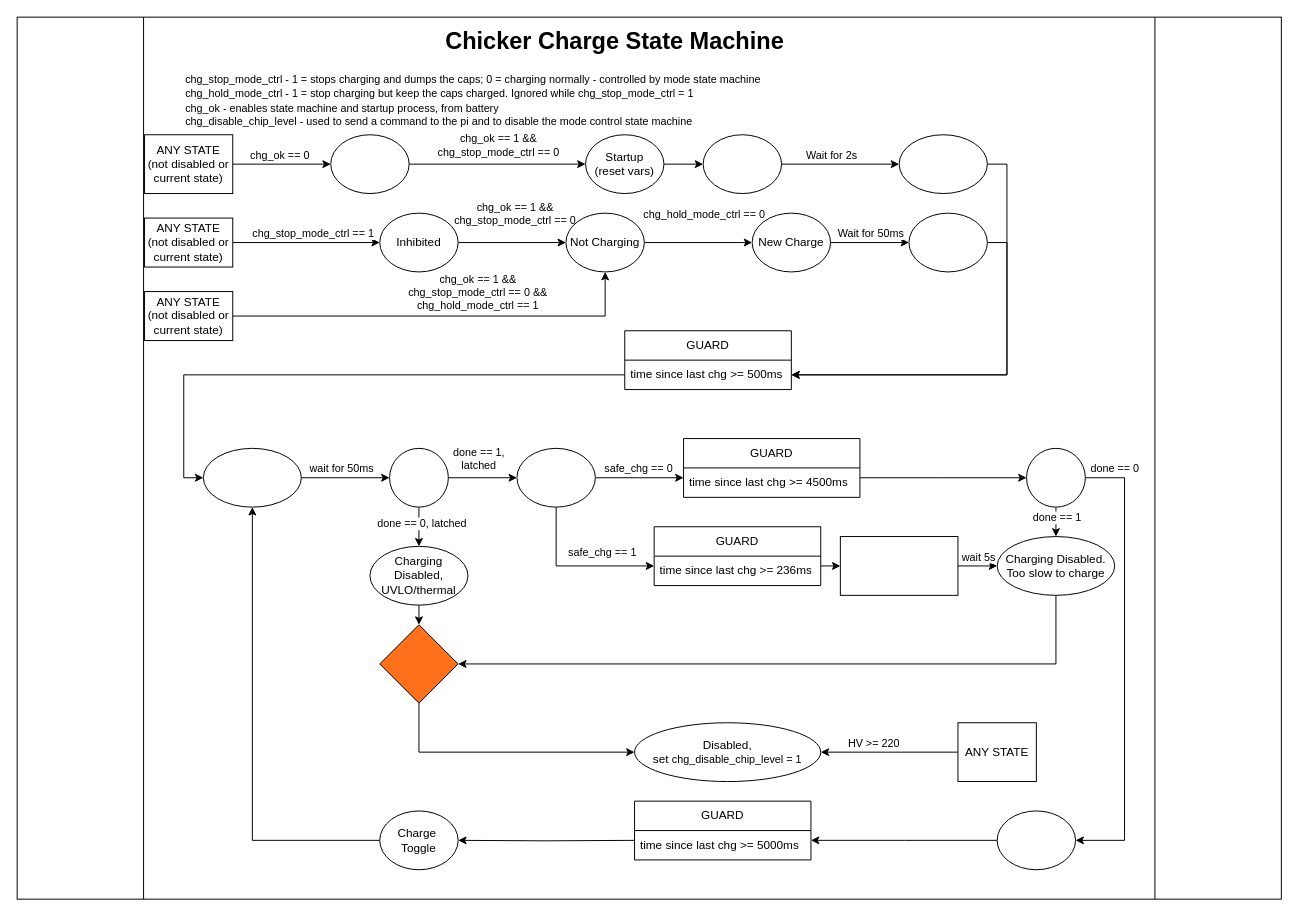
Some shapes in this 1299 by 916 pixel diagram are drawn without their labels. Each missing label, with the centre of its shape:
Assuming Charged: the point at 1036,840
Charge Started: the point at 555,477
Charge Toggle Reset: the point at 947,242
Charge Toggle Reset from Bat: the point at 942,164
Charge Toggle Wait: the point at 251,477
Charged to ~50V: the point at 898,565
New Charge from Bat: the point at 742,164
Wait for Bat: the point at 369,164
